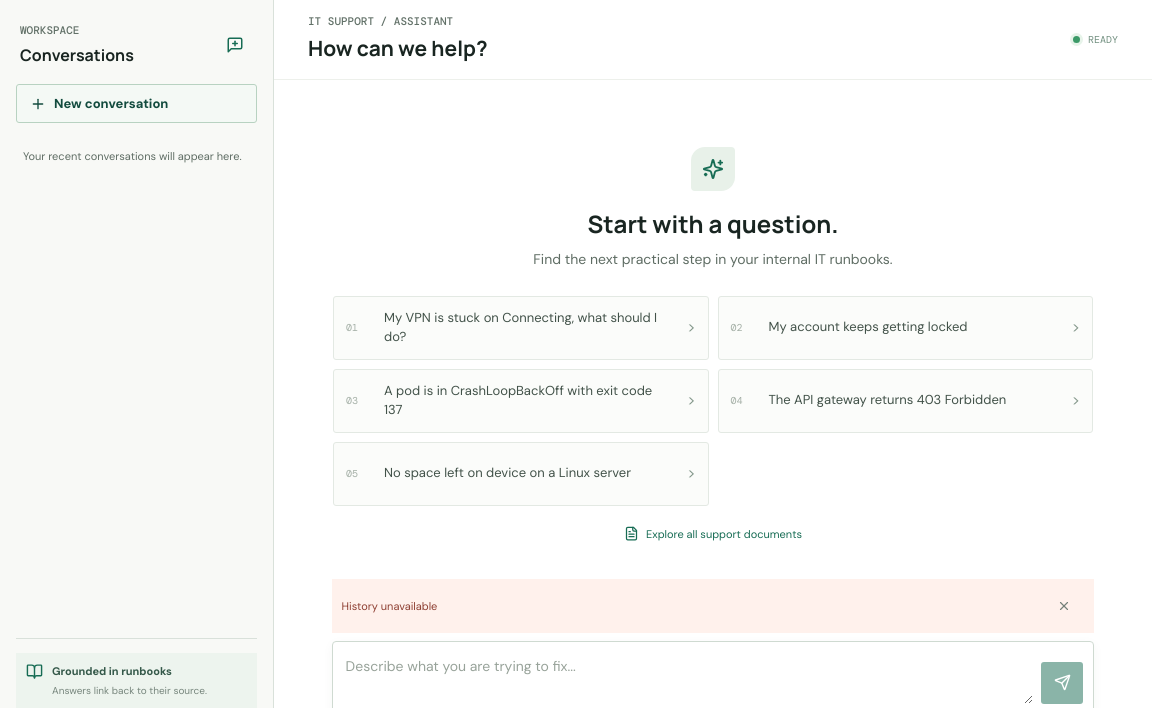
ChatView › reports load, send, source, feedback and session-create errors without losing question
The width and height of the screenshot is (1152, 708).
Expected: the message reads "History unavailable", [342,599,437,613]
Click the button named "New conversation".
click(235, 45)  # box [215,25,255,65]
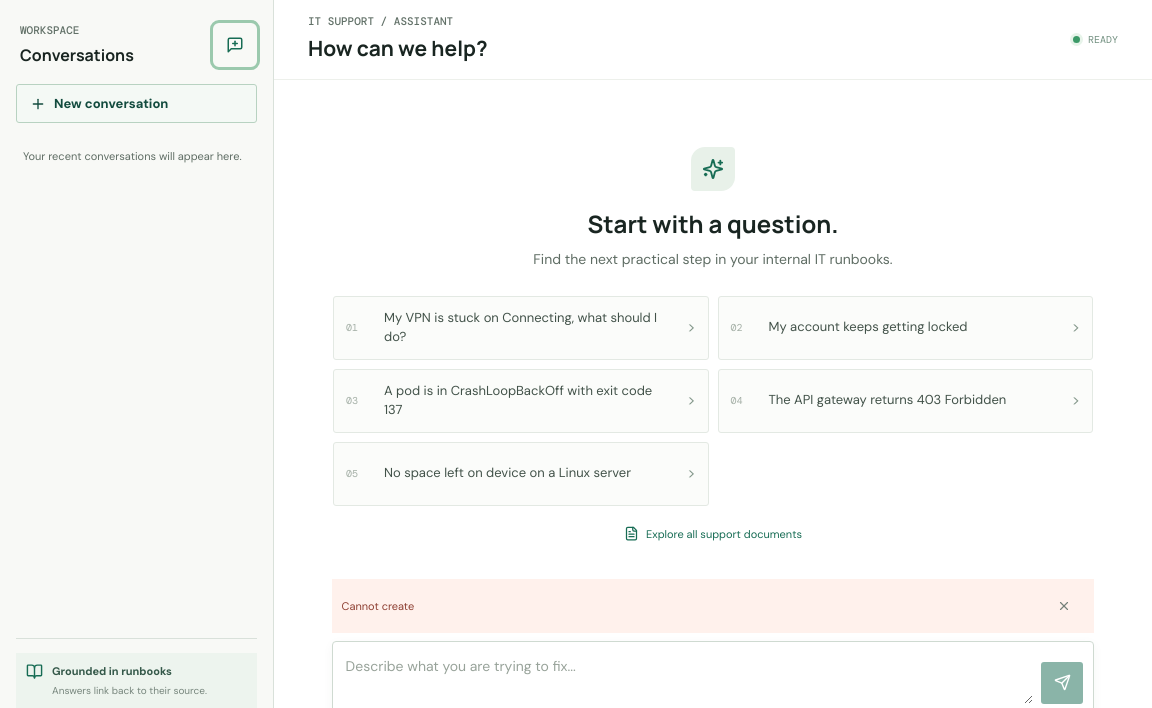
Result: the message reads "Cannot create" at [342,599,414,613]
Type "Try again" into the text box named "Your question".
click(690, 678); type("Try again")  # box [346,652,1033,704]
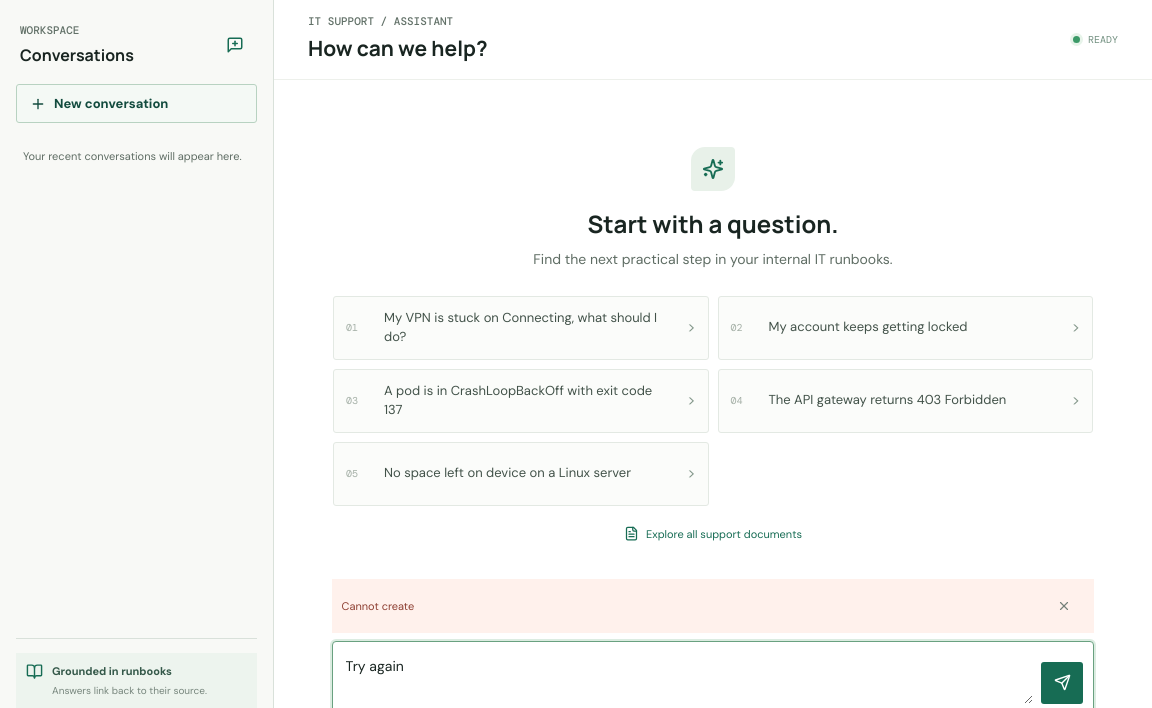
Click the button named "Send question".
click(1062, 683)  # box [1041,662,1083,704]
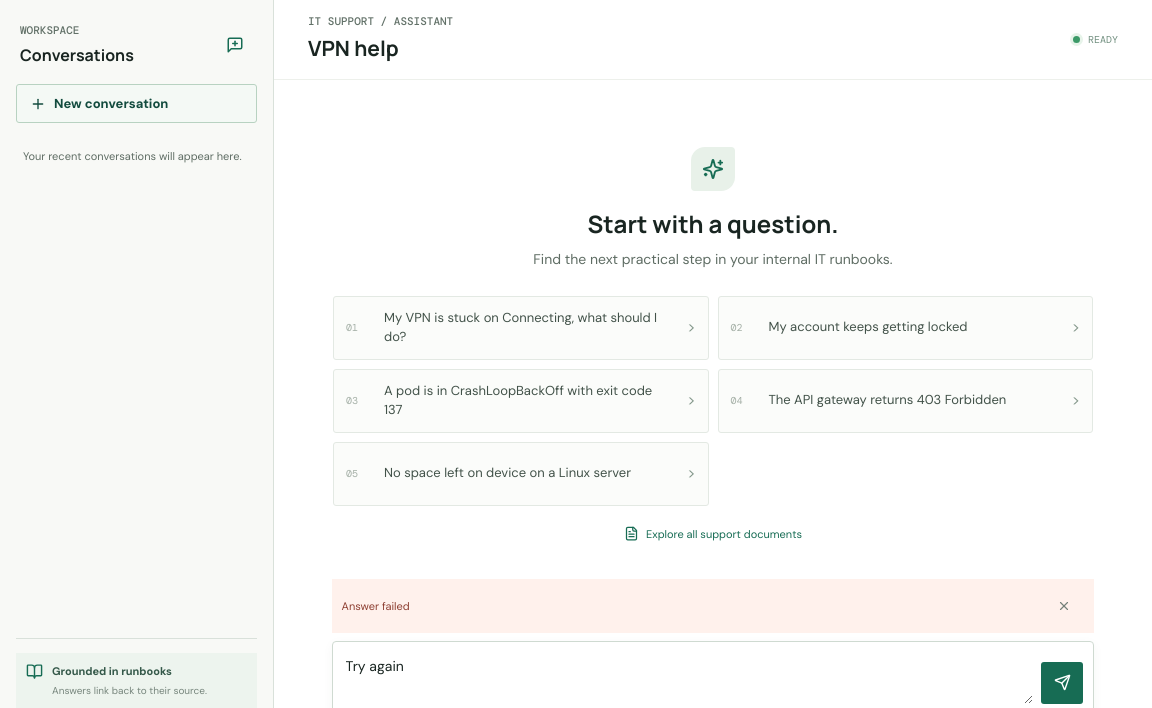
Result: the message reads "Answer failed" at [342,599,410,613]
